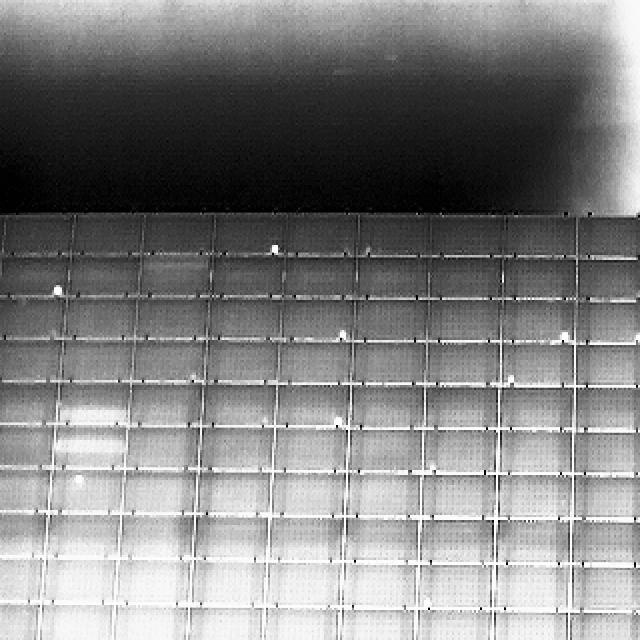Hotspots: (45, 282, 67, 297), (422, 592, 439, 609), (334, 328, 351, 344), (332, 415, 351, 429), (72, 473, 87, 489), (554, 331, 573, 343), (272, 239, 287, 253), (505, 371, 519, 385), (628, 328, 640, 342)
PV-modules: (338, 560, 416, 610), (276, 212, 360, 257), (186, 558, 263, 607), (42, 556, 117, 606), (495, 564, 571, 613), (116, 557, 192, 606), (341, 519, 416, 568), (421, 520, 497, 568), (426, 341, 502, 389), (189, 518, 266, 565), (269, 519, 346, 566), (424, 213, 506, 257), (503, 340, 576, 389), (204, 339, 280, 386), (263, 561, 339, 608), (420, 563, 494, 611), (495, 427, 569, 475), (498, 521, 572, 569), (345, 427, 422, 473), (42, 516, 117, 563), (344, 471, 419, 518), (279, 339, 354, 386), (128, 382, 201, 430), (570, 520, 640, 570), (570, 562, 640, 612), (272, 472, 348, 518), (349, 386, 425, 432), (274, 426, 348, 473), (422, 427, 496, 474), (568, 427, 640, 475), (117, 517, 192, 563), (351, 341, 426, 387), (121, 471, 194, 518), (426, 387, 502, 432), (202, 383, 276, 429), (428, 297, 503, 342), (67, 255, 142, 300), (570, 302, 640, 350), (193, 474, 269, 518), (352, 301, 428, 345), (49, 470, 120, 517), (501, 388, 575, 433), (70, 212, 147, 255), (427, 256, 502, 300), (280, 256, 355, 300), (65, 295, 138, 340), (137, 295, 210, 340), (127, 426, 201, 470), (200, 426, 274, 470), (424, 475, 498, 519), (498, 475, 572, 519), (62, 339, 136, 383), (208, 255, 280, 300), (2, 212, 74, 257), (142, 212, 215, 256), (275, 385, 346, 430), (136, 338, 207, 383), (138, 255, 209, 300), (278, 301, 352, 344), (357, 256, 426, 302), (209, 296, 281, 340), (502, 256, 574, 300), (505, 214, 577, 258), (360, 212, 432, 256), (53, 427, 124, 471), (58, 383, 127, 428), (572, 475, 640, 520), (572, 388, 640, 432), (570, 343, 640, 385), (501, 301, 569, 344), (212, 212, 277, 256), (0, 257, 66, 300), (112, 602, 186, 640), (38, 602, 112, 640), (0, 297, 62, 342), (574, 215, 640, 257), (0, 338, 60, 384), (186, 605, 264, 640), (578, 258, 640, 302), (262, 605, 338, 640), (334, 607, 412, 640), (416, 607, 492, 640), (0, 384, 55, 429), (0, 424, 52, 470), (492, 610, 568, 640), (0, 469, 48, 516), (0, 509, 46, 558), (566, 610, 640, 640), (0, 556, 41, 604), (0, 602, 36, 640)
